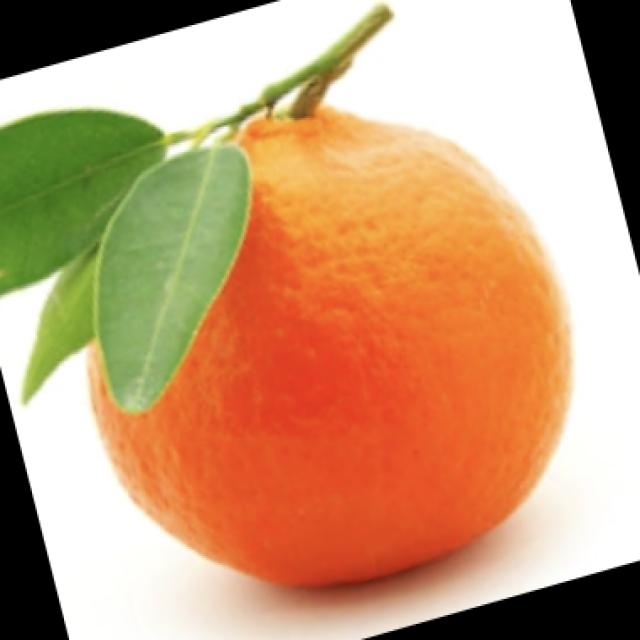matang: (95, 98, 573, 594)
